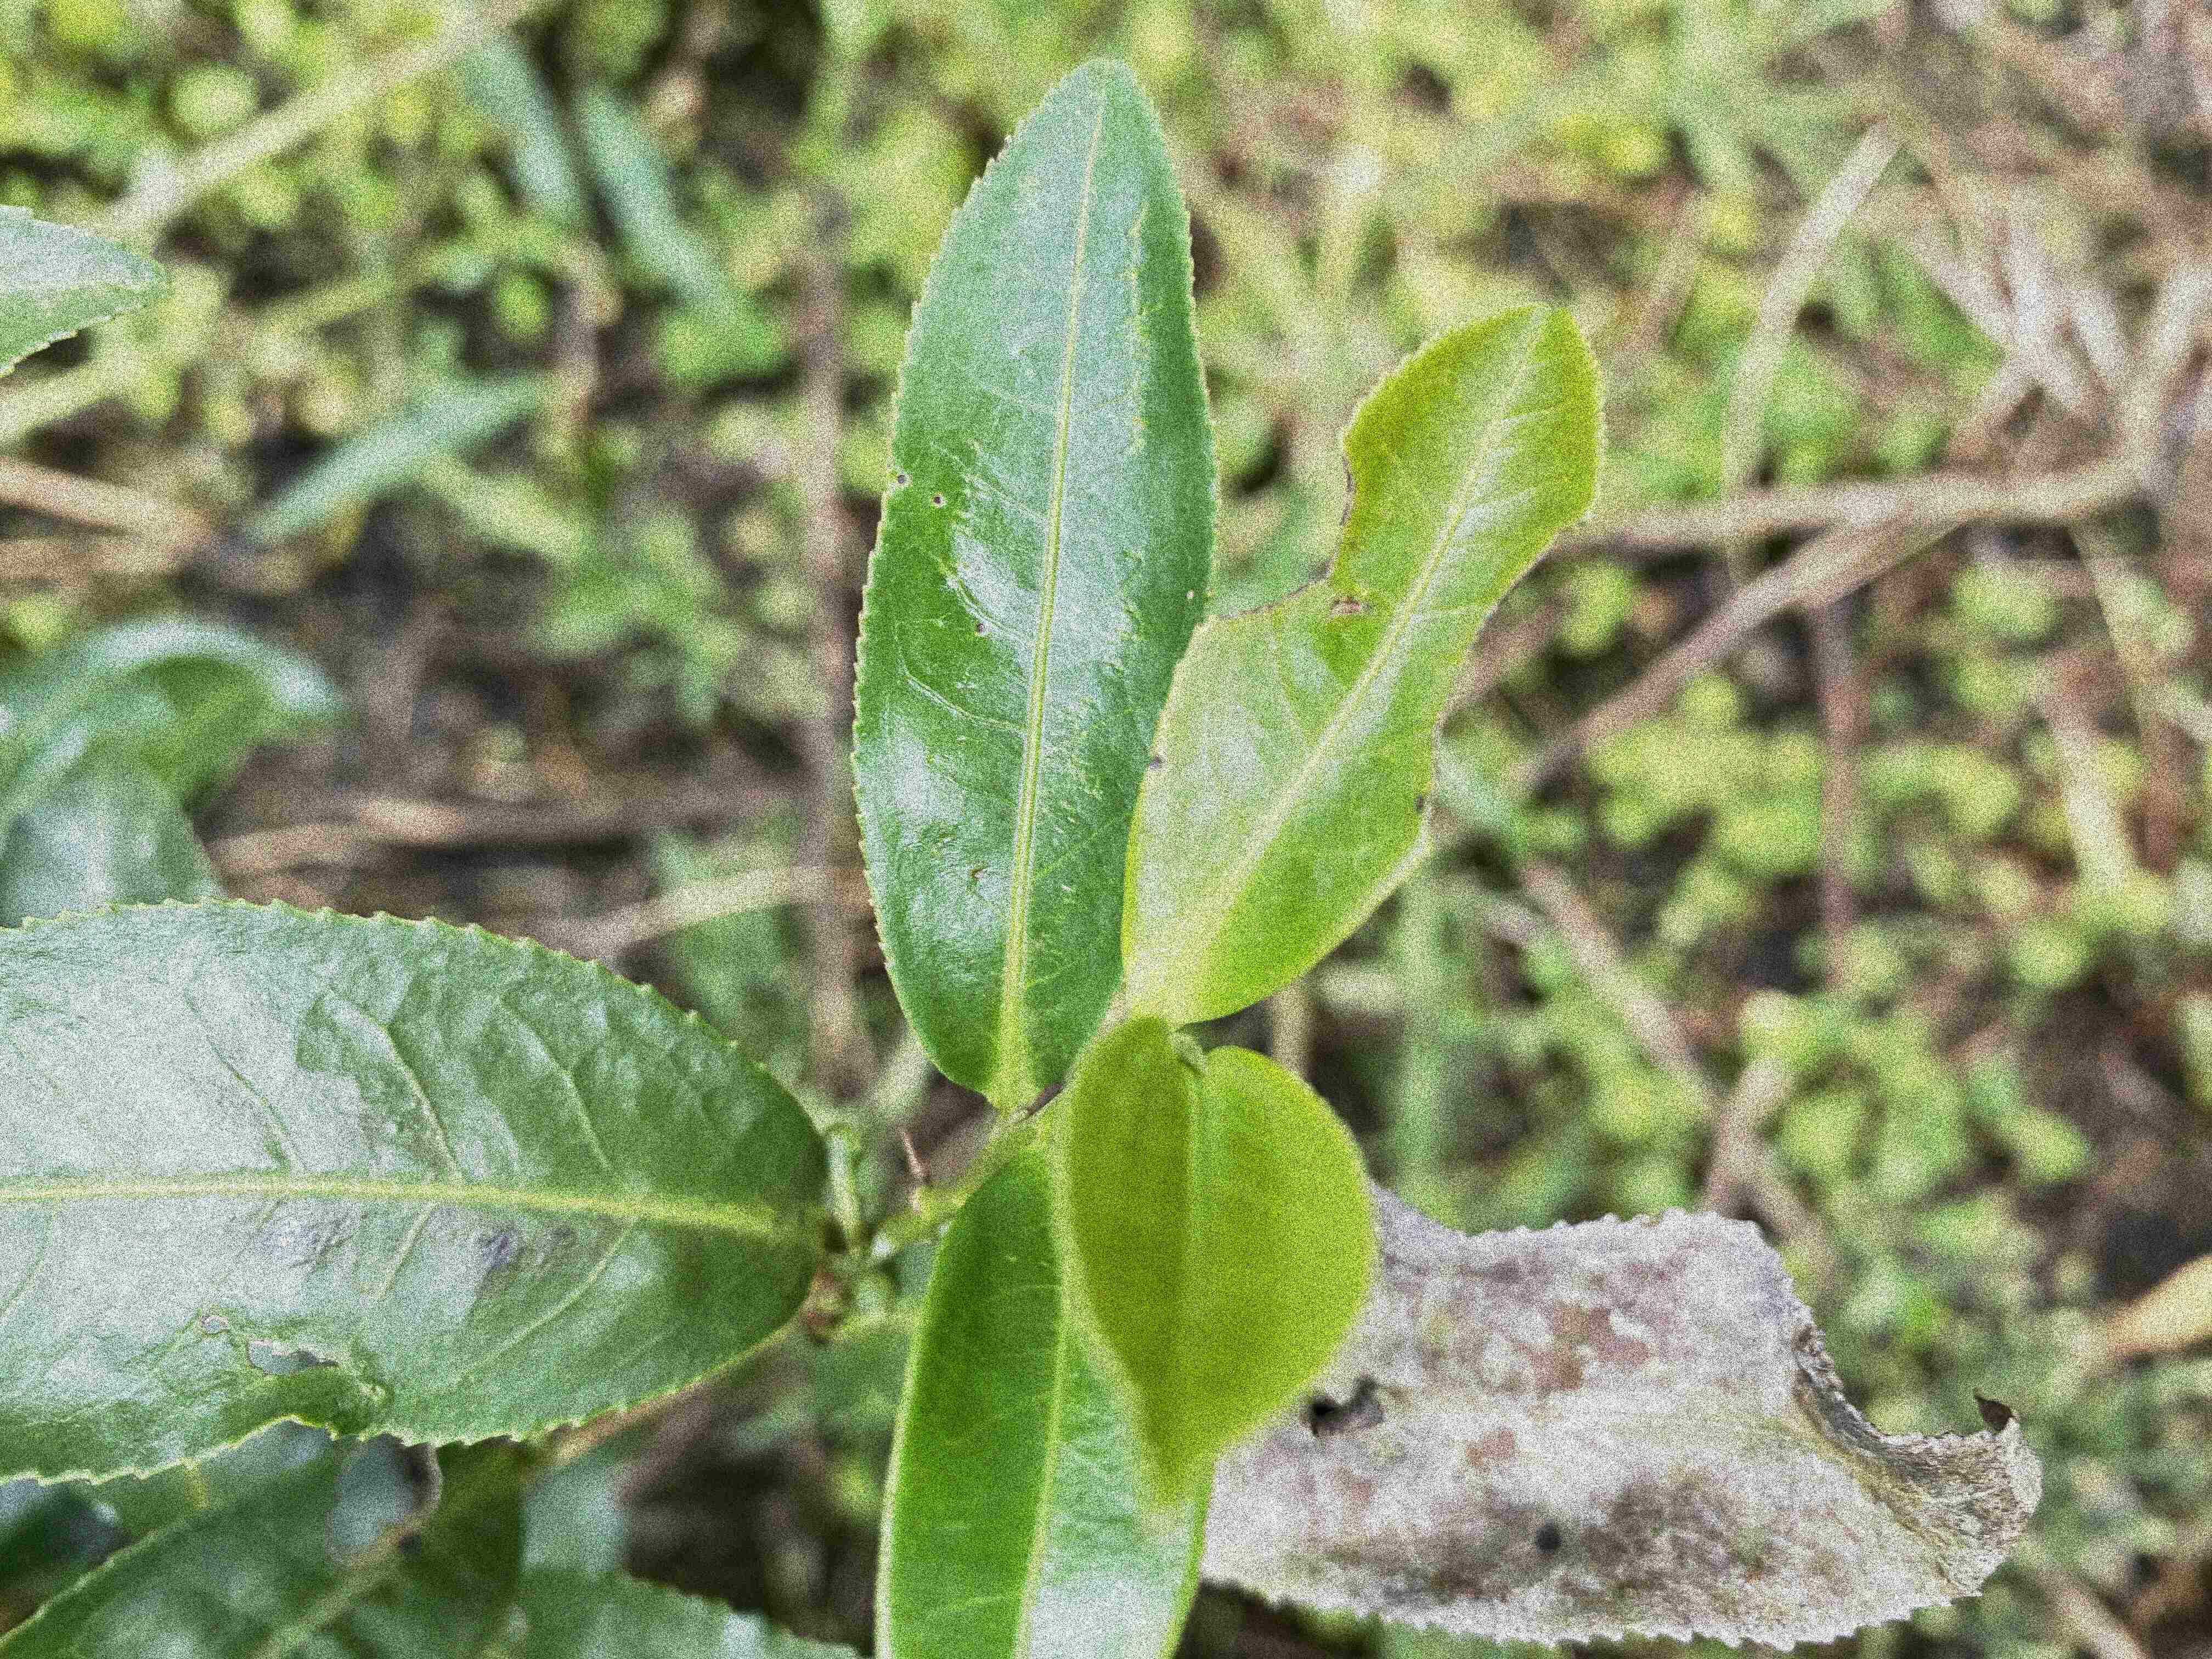chihuo_high: (1120, 305, 1604, 1025)
chihuo_low: (3, 896, 829, 1493)
healthy: (864, 1140, 1209, 1656), (1052, 1012, 1374, 1514)
